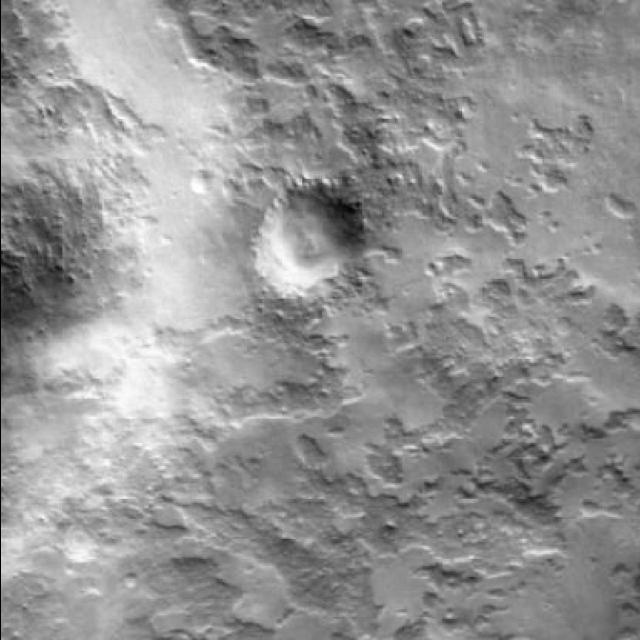crater: (249, 188, 357, 306), (186, 180, 206, 203)
